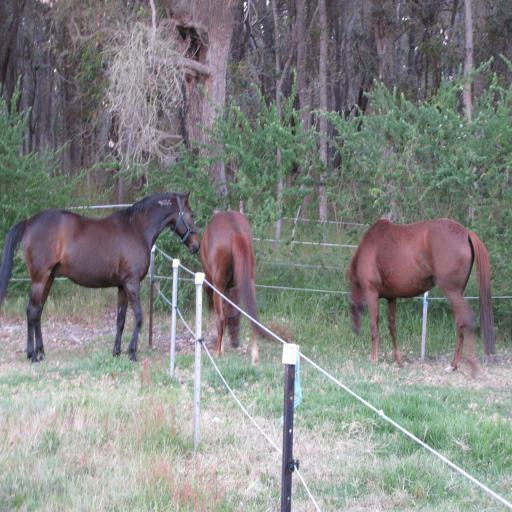horse: (0, 190, 202, 364), (348, 220, 497, 377), (198, 213, 260, 369)
